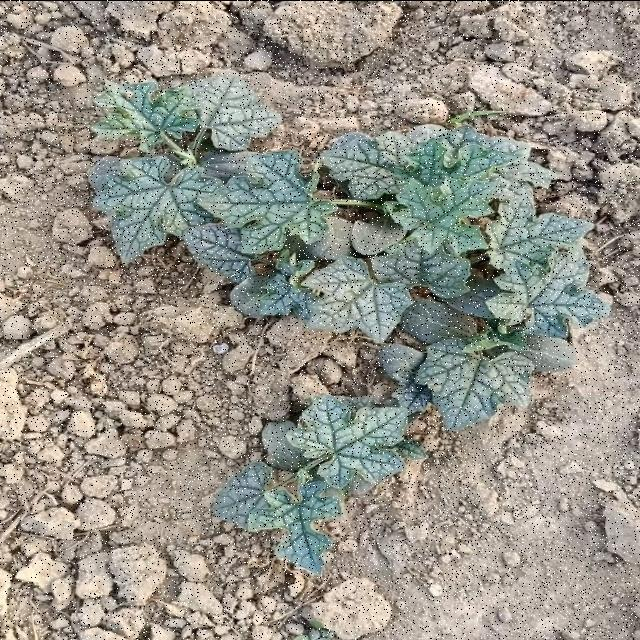plant: (90, 74, 608, 572)
